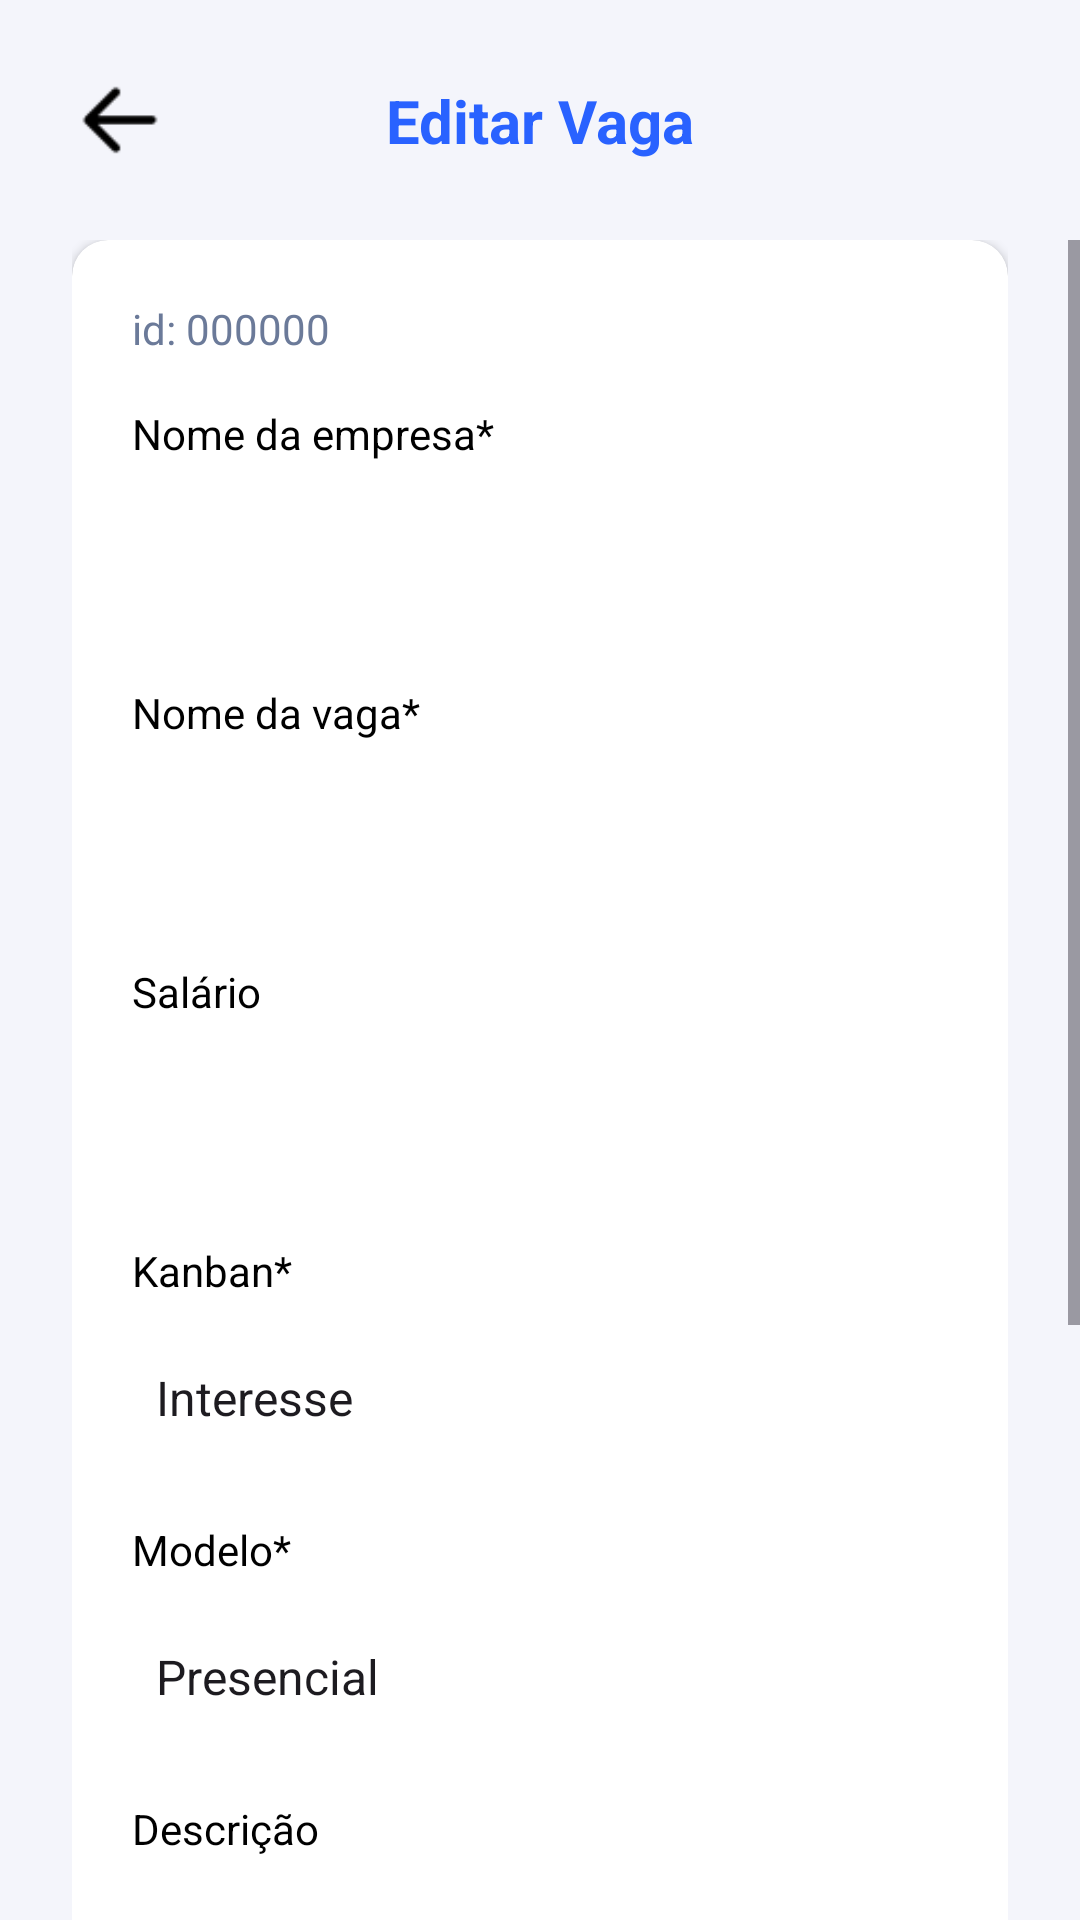

Icons on this 1080px×1920px Android screen, each with the point to tap as (x=x, y=y):
voltar: (x=120, y=120)
